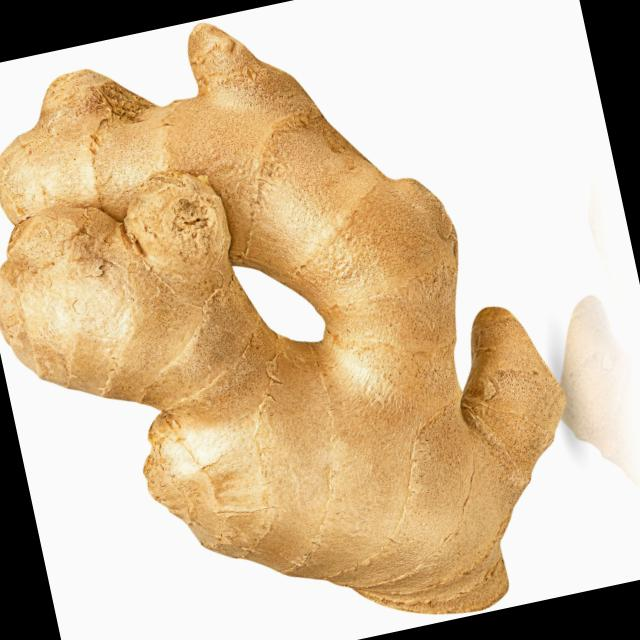lemon: (0, 0, 616, 640)
